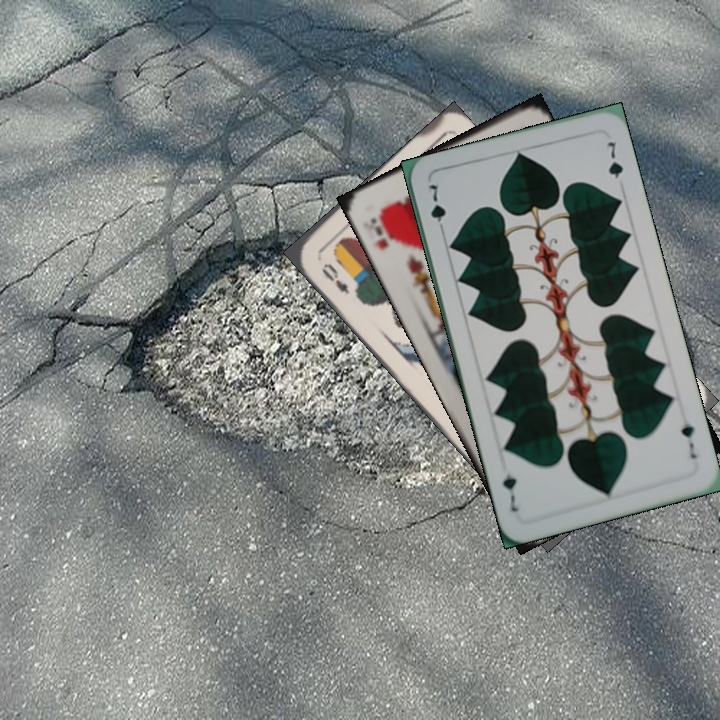EO: (317, 259, 352, 297)
G7: (425, 180, 449, 238), (677, 419, 700, 461)
HK: (366, 205, 399, 252)
